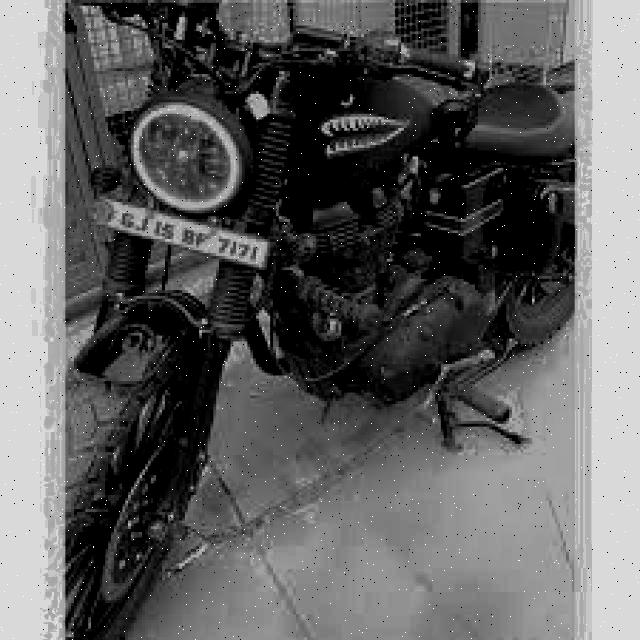Bike: (66, 3, 576, 640)
